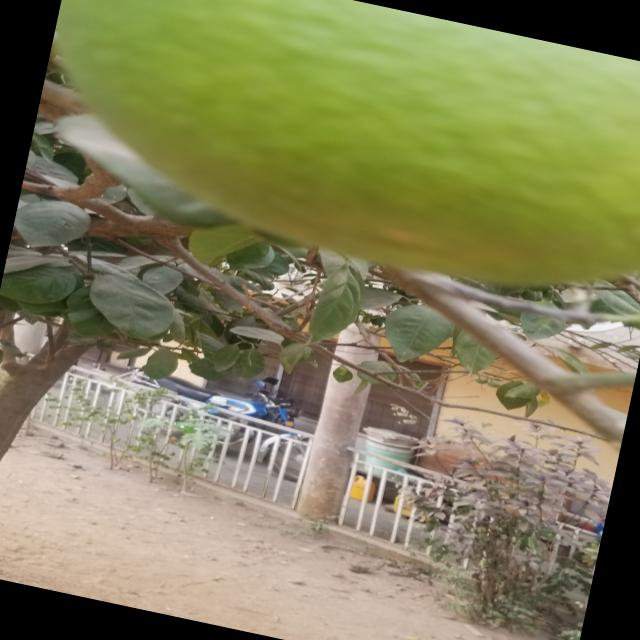Unripe: (19, 0, 640, 326)
